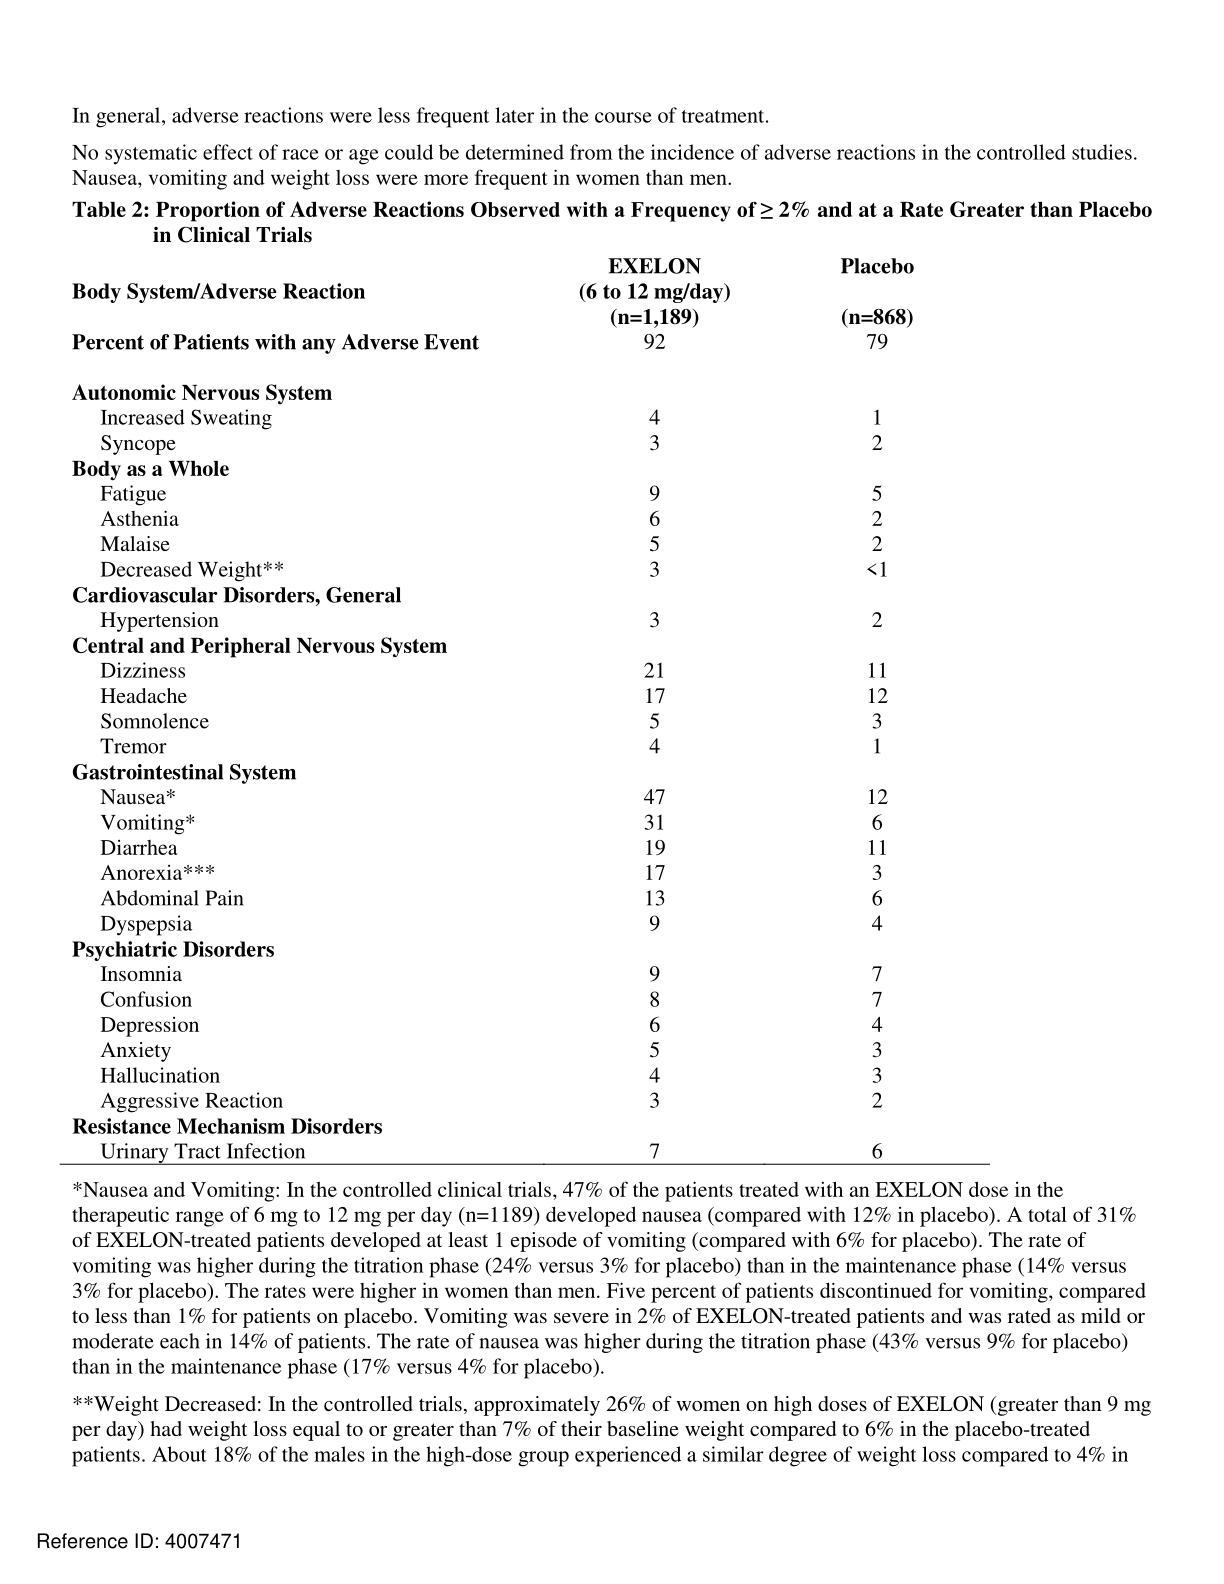nolines: (69, 255, 918, 1160)
